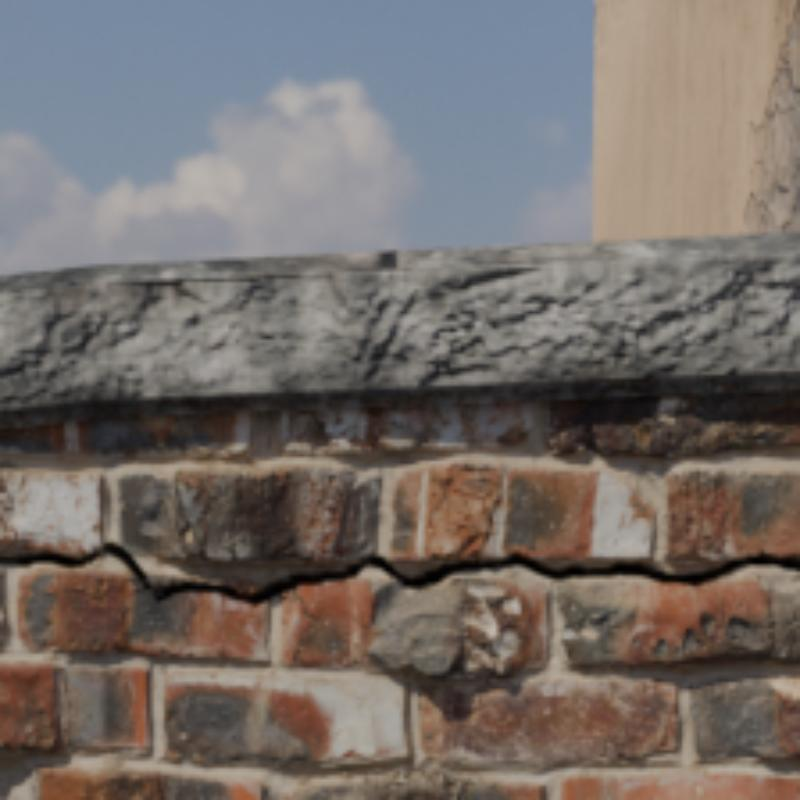pothole: (0, 543, 796, 604)
